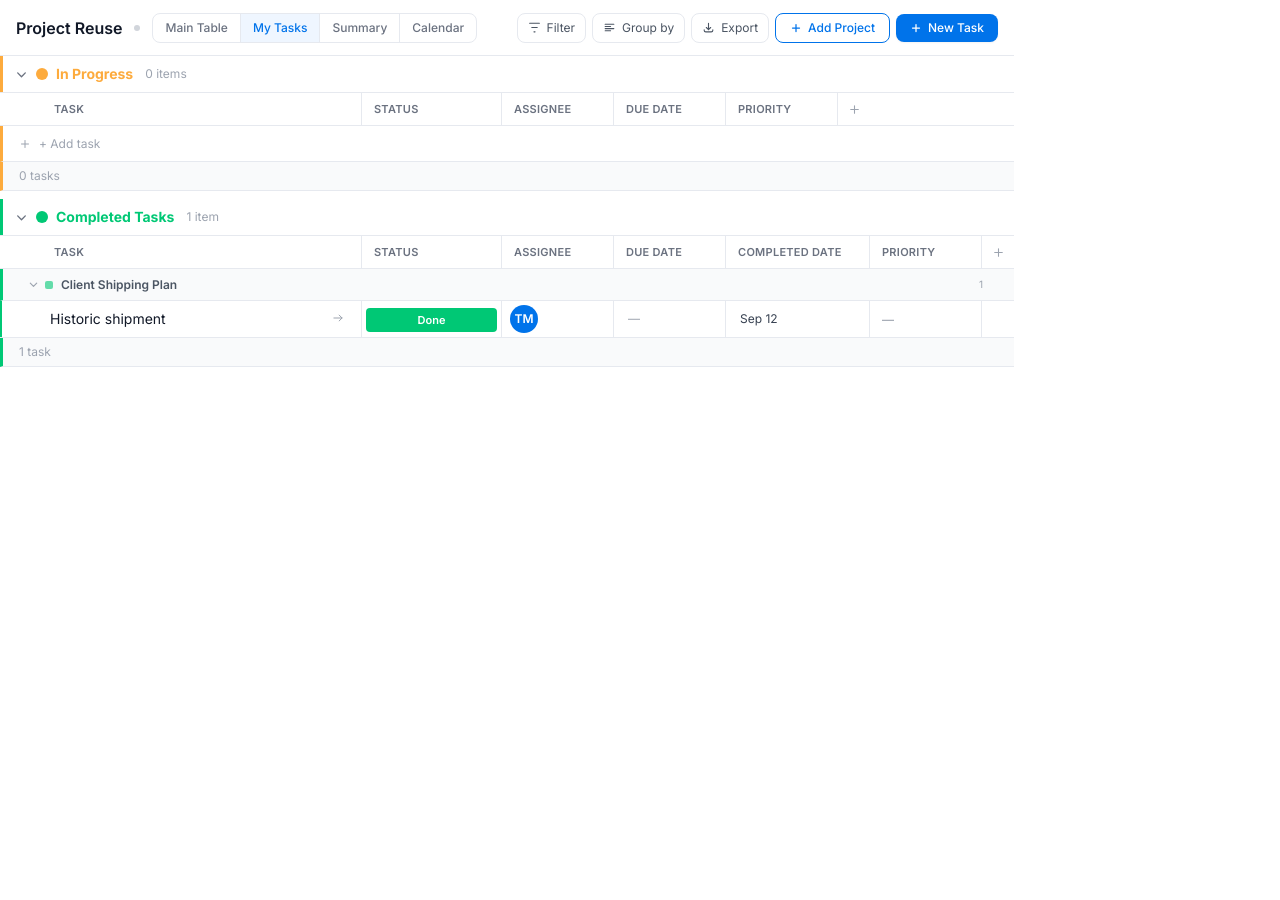
Scenario: selecting an existing project for new tasks › creates To Do when absent and keeps the original active and completed project rows
Click the button "Add Project". click: x=833, y=28
box: [775,12,890,42]
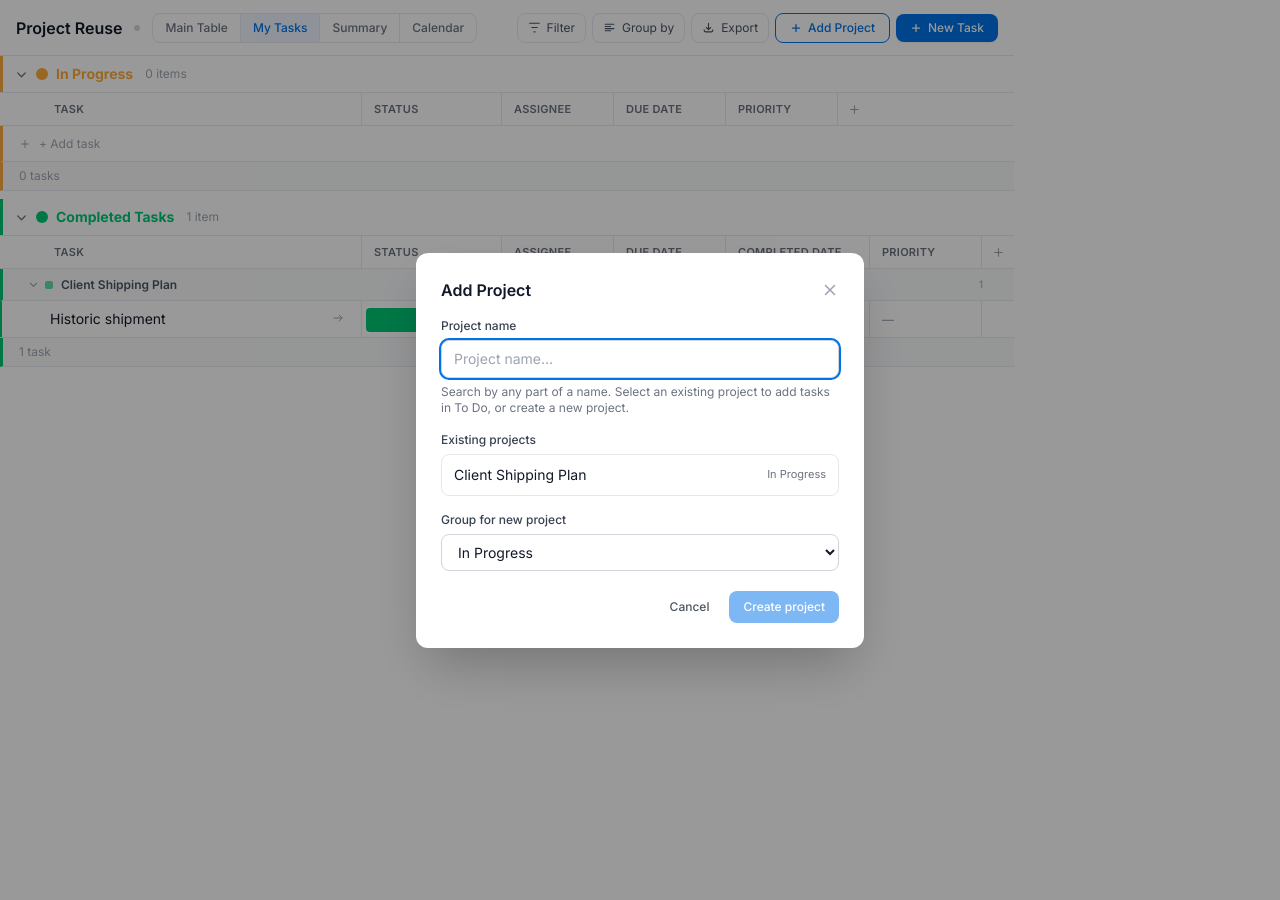
Expected: the number of buttons named "Select project" is 1
Click the button "Client Shipping Plan In Progress". click: x=520, y=474
box: [442,454,838,494]
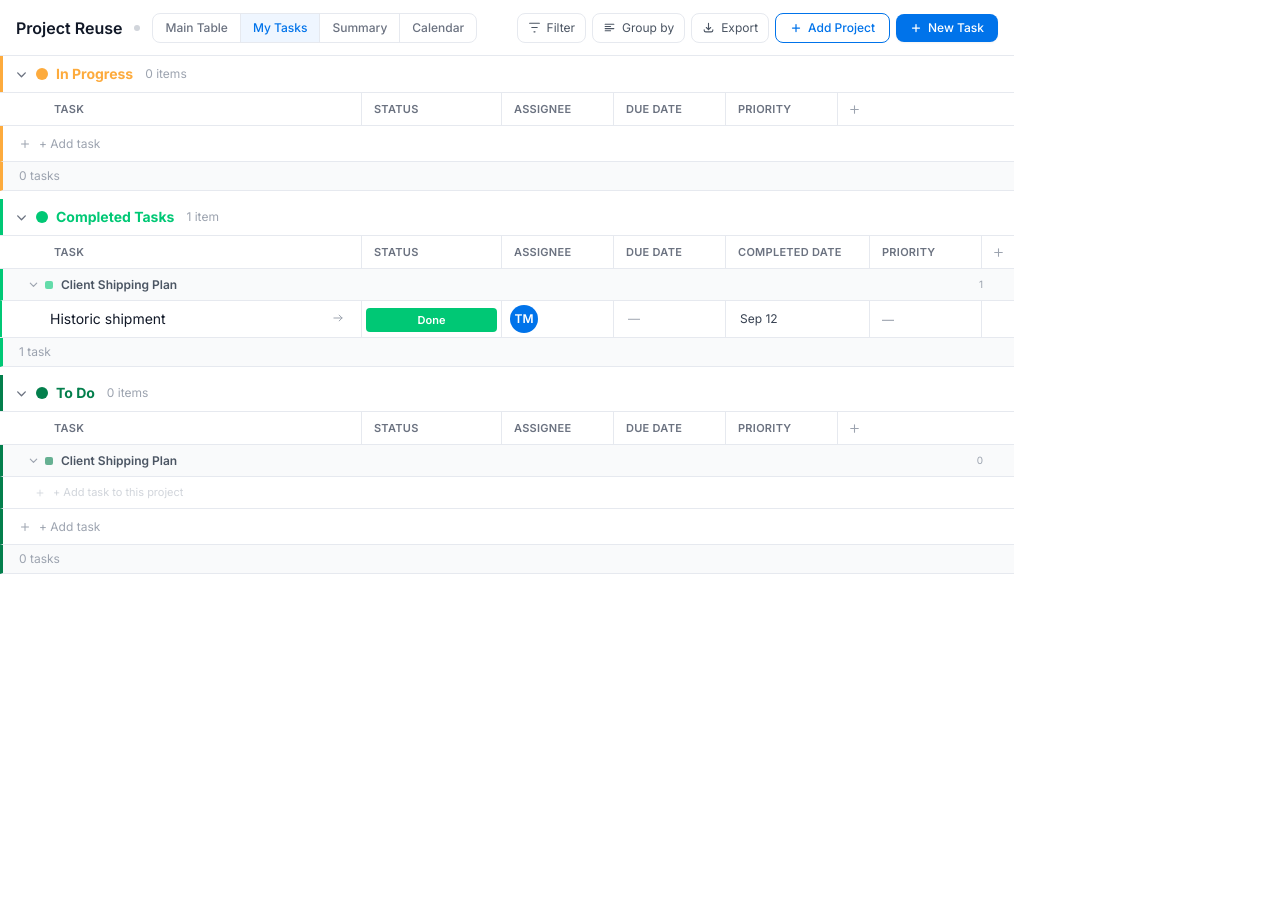
Expected: the text "+ Add task to this project" is shown, [53,484,183,501]
